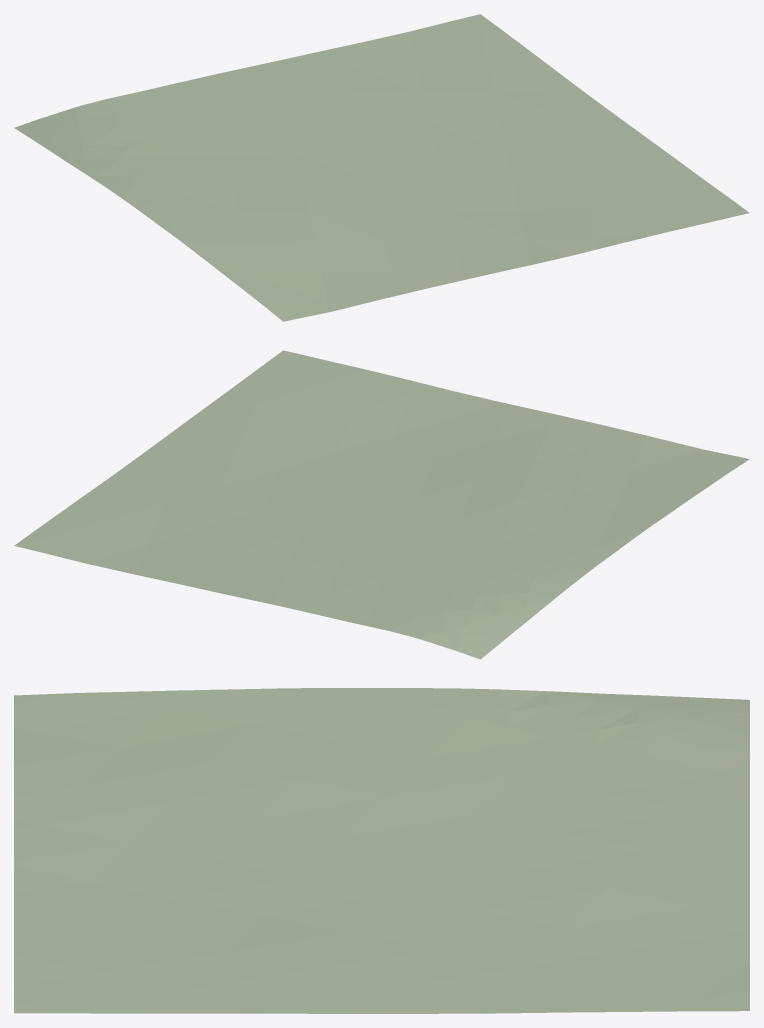
Rendered from SM_MPRR_Terrain_-3_2.fbx.
The picture shows the model from 3 angles, top to bottom: view 1: azimuth 30°, elevation 25°; view 2: azimuth 150°, elevation 25°; view 3: azimuth 270°, elevation 25°; orthographic projection. The views are drawn at different scales.
Parts seen in each view (by area): view 1: SM_MPRR_Terrain_-3_2; view 2: SM_MPRR_Terrain_-3_2; view 3: SM_MPRR_Terrain_-3_2.
Boxes of the visible parts, x1,y1,x2,y2 form: SM_MPRR_Terrain_-3_2: (14, 14, 749, 321); SM_MPRR_Terrain_-3_2: (14, 350, 749, 659); SM_MPRR_Terrain_-3_2: (14, 688, 749, 1013).
Size of the model in its own units: 15000 by 15000 by 335.
